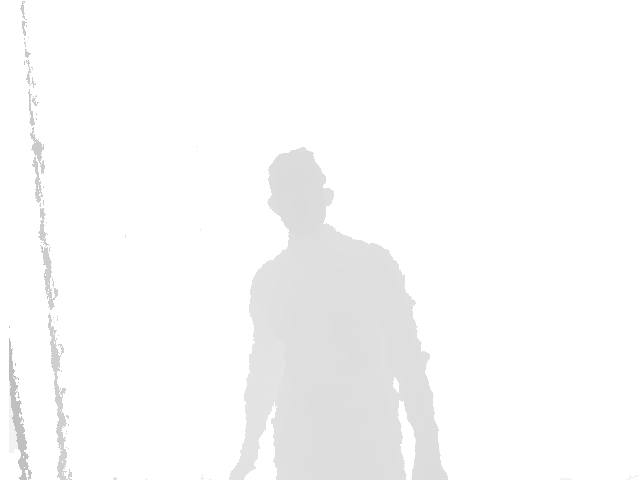head: (267, 147, 334, 227)
person: (227, 147, 447, 480)
